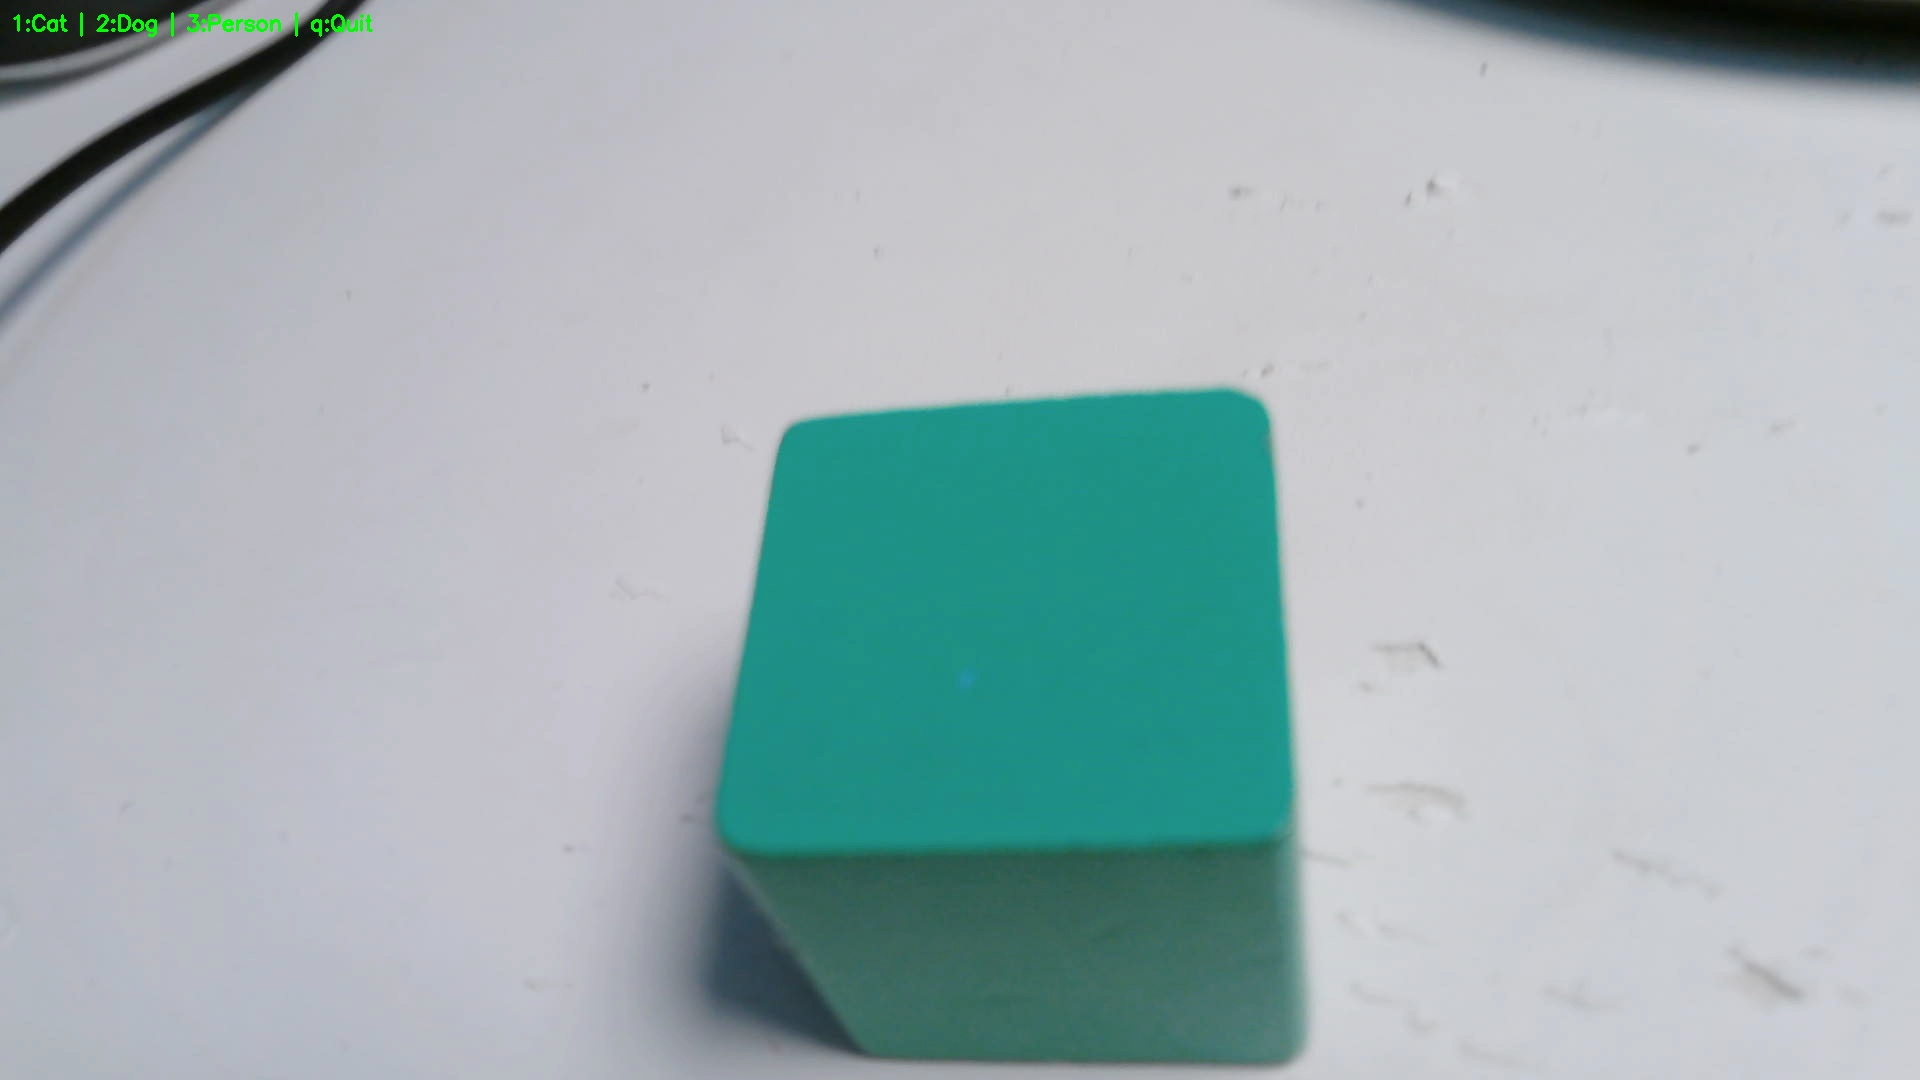green: (727, 390, 1311, 1068)
